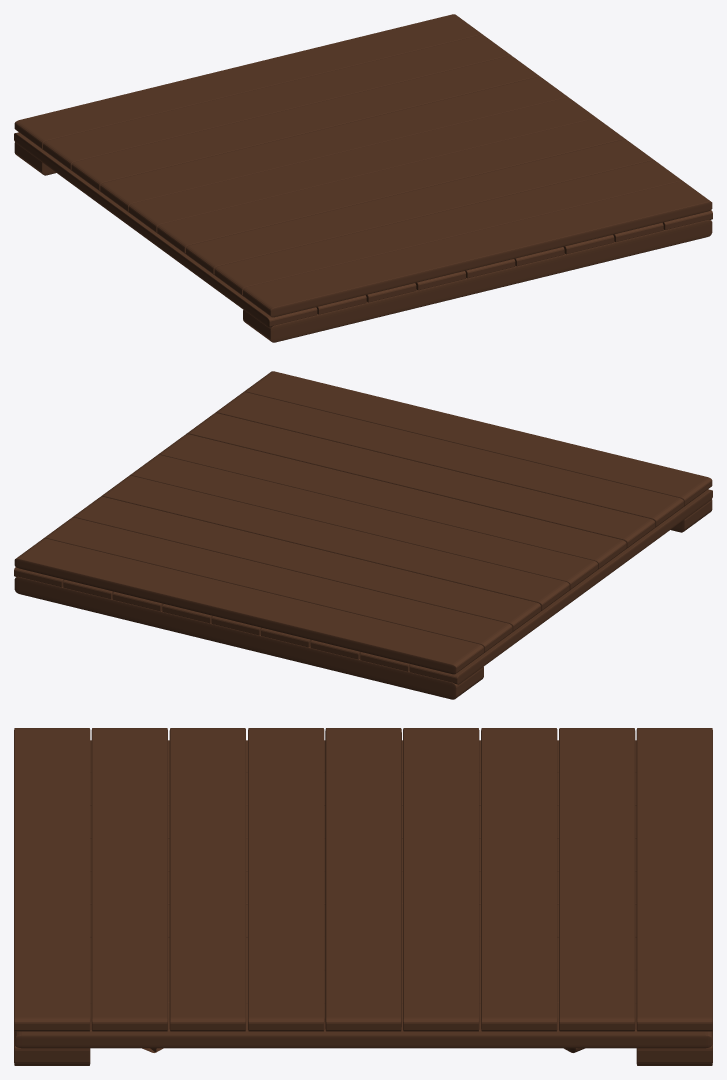
The model's file is Wood Platform Pallet.fbx.
3 views of the same model, one above another, from view 1: azimuth 30°, elevation 25°; view 2: azimuth 150°, elevation 25°; view 3: azimuth 270°, elevation 25° (orthographic). The views are drawn at different scales.
Visible parts, largest first — view 1: Cube; view 2: Cube; view 3: Cube.
Part boxes in pixels (left/top/right/bottom): Cube: left=14, top=14, right=712, bottom=342; Cube: left=14, top=371, right=712, bottom=699; Cube: left=14, top=728, right=712, bottom=1065.
Size of the model in its own units: 532 by 532 by 40.33.
